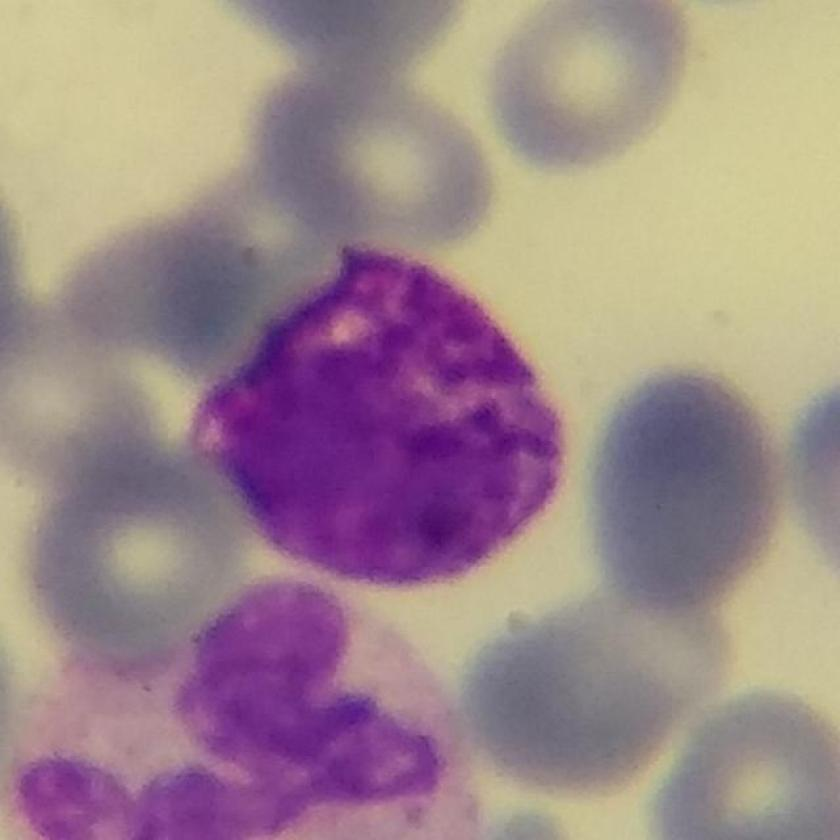basophil: (200, 235, 572, 588)
